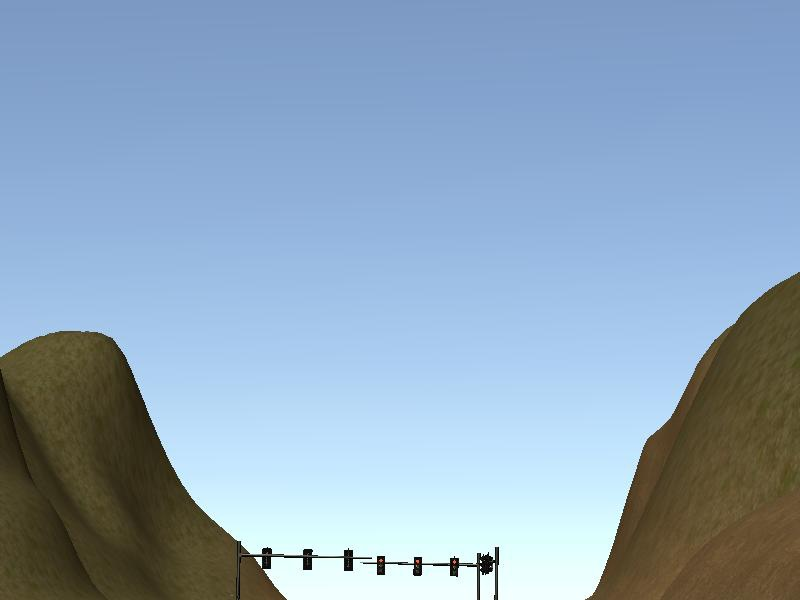Red: (374, 552, 388, 578), (448, 553, 459, 582), (412, 553, 422, 578)
